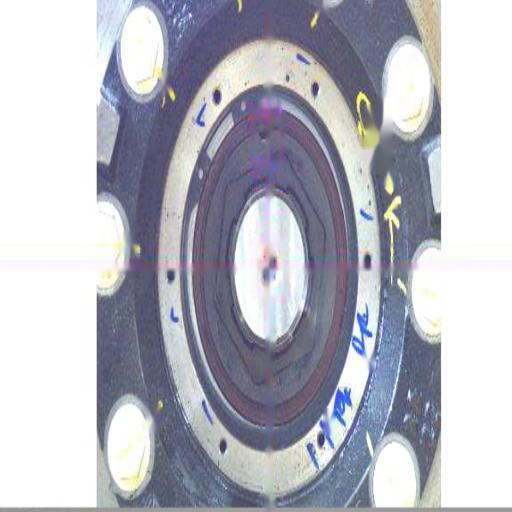center: (264, 250, 283, 276)
notch: (253, 120, 271, 147)
